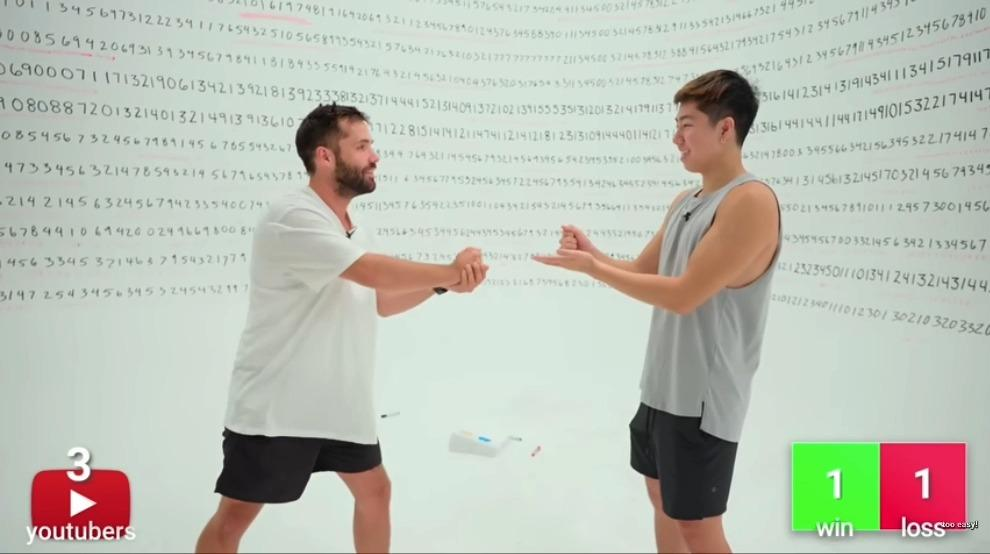Rock: (450, 246, 483, 288), (560, 224, 588, 251)
